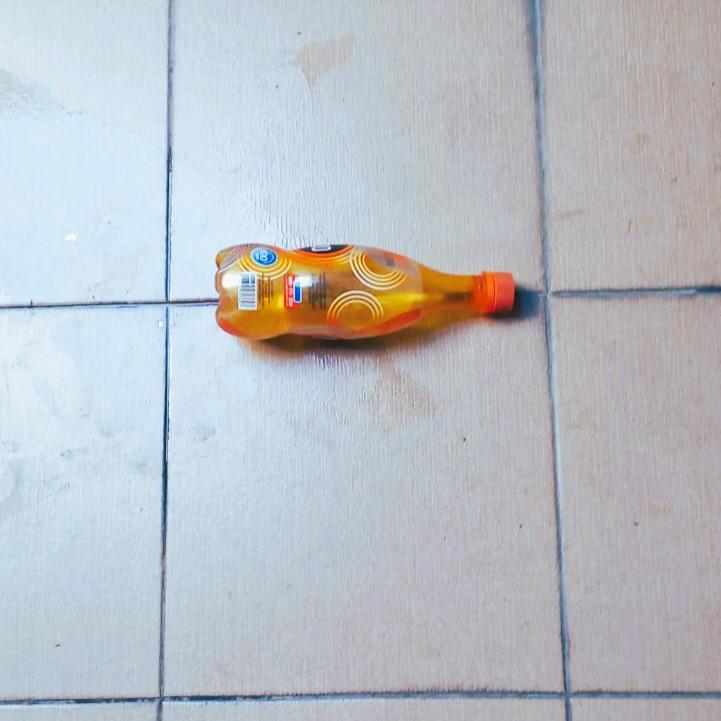Plastik: (214, 243, 514, 339)
